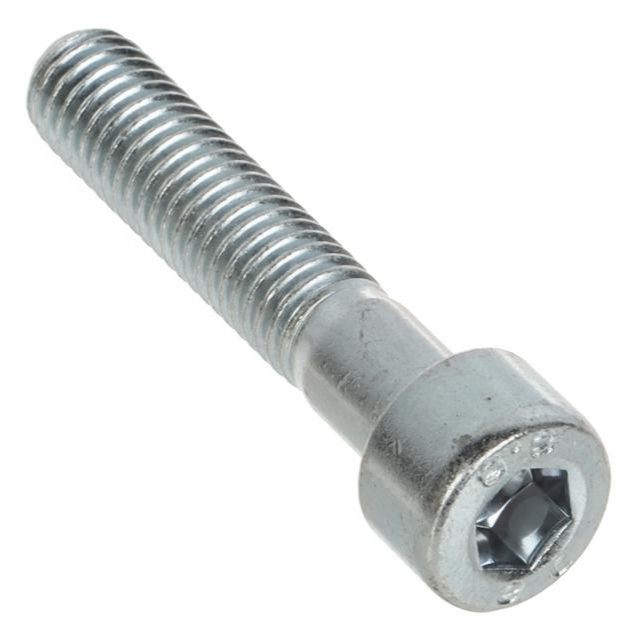allen: (471, 464, 579, 581)
